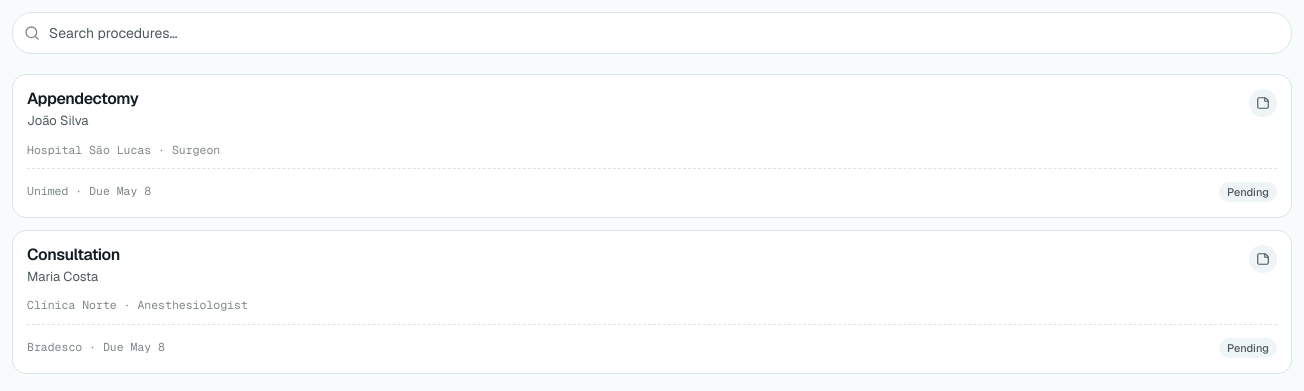
ProcedureList search › filters by patient name
Type "maria" into the search field with placeholder "Search procedures…". click: point(652, 33)
box: [12,12,1292,54]
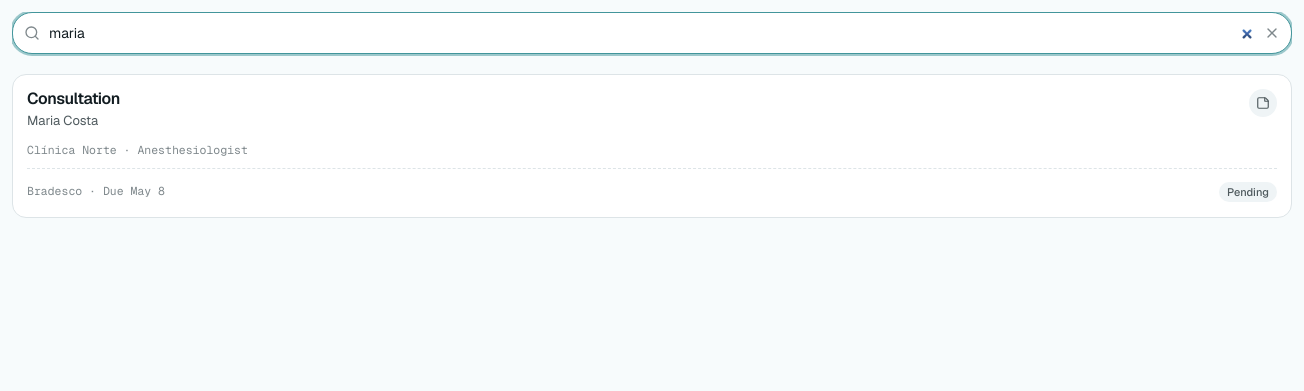
Expected: the text "Maria Costa" is shown, [27,112,98,129]
Now the text "João Silva" is gone
